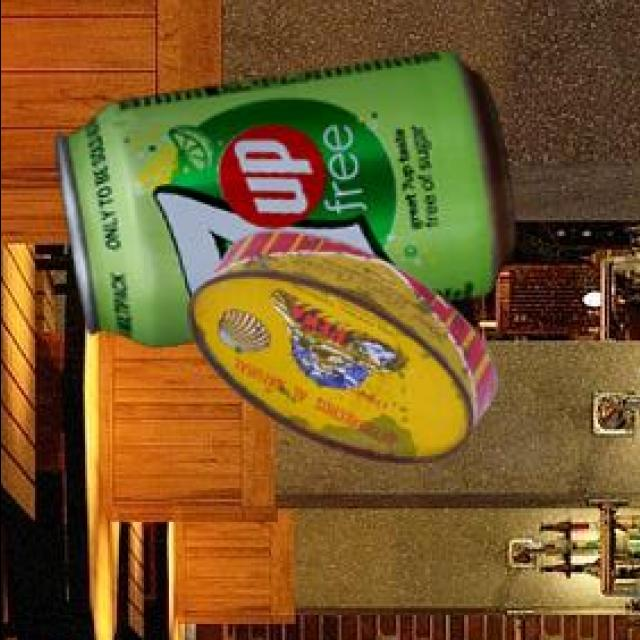logam: (58, 47, 519, 344), (190, 228, 498, 460)
